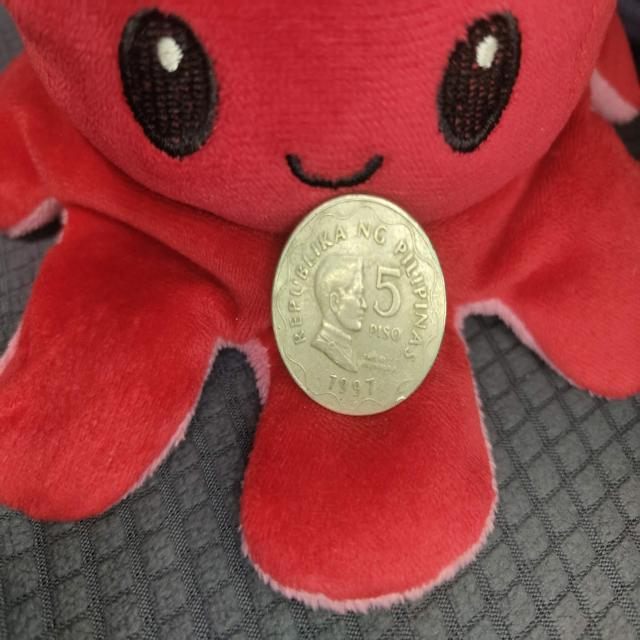5 peso-old: (266, 188, 450, 419)
